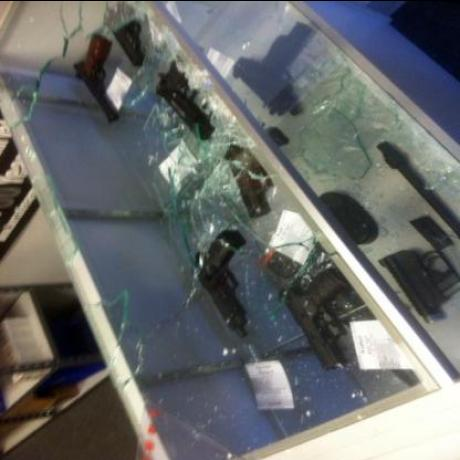weapon: (228, 20, 319, 116), (280, 264, 354, 370), (182, 228, 258, 330), (219, 120, 296, 220), (150, 55, 222, 140), (68, 27, 123, 124)
